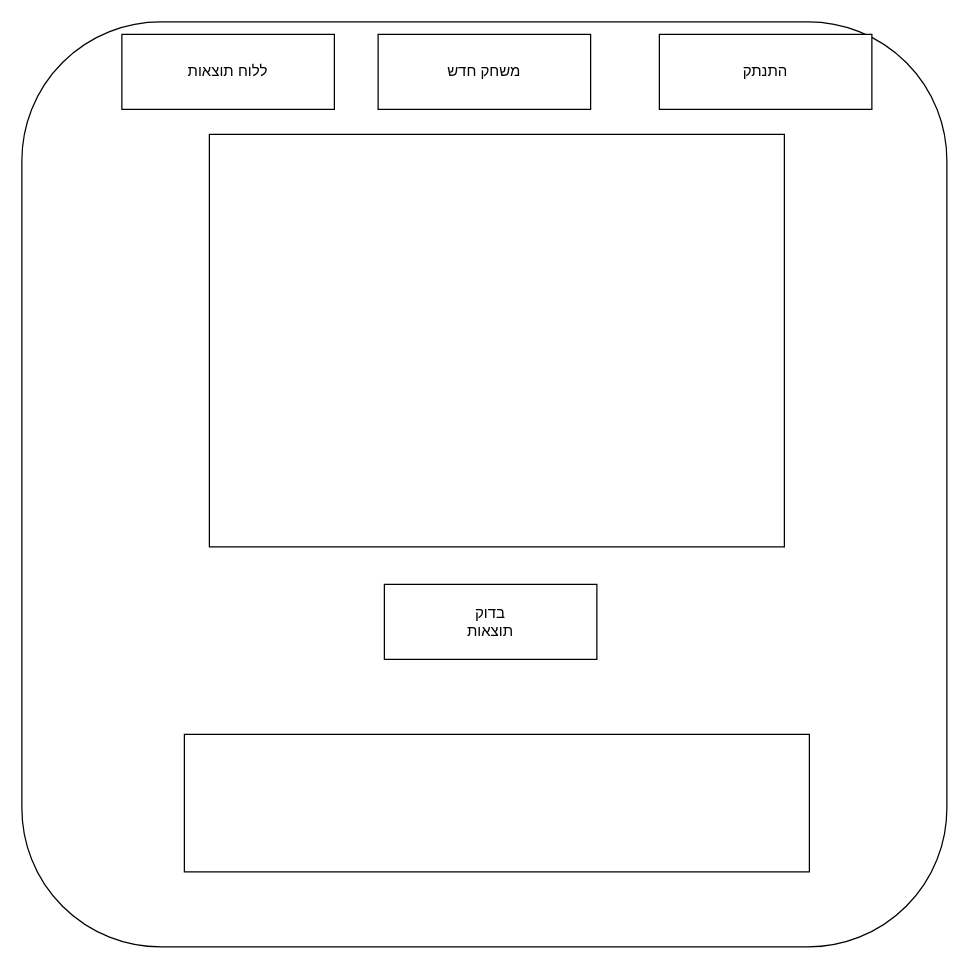
Image size: 969x969. Some labels were removed from this diagram. The shapes that lost their labels are listed below. From the top down, each one's box as (x1, y1, x2, y2) in pixels, then its label:
(208, 133, 784, 547): הךוח משחק
(183, 733, 809, 872): קרדיט
